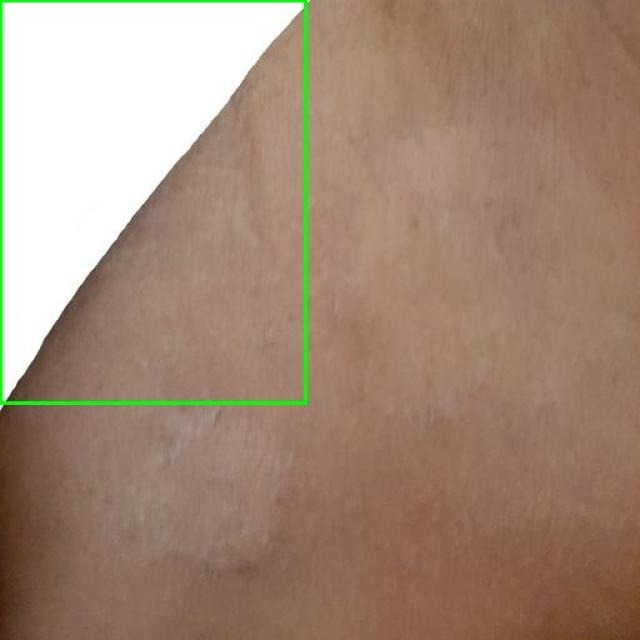Tinea Corporis: (0, 0, 305, 402)
